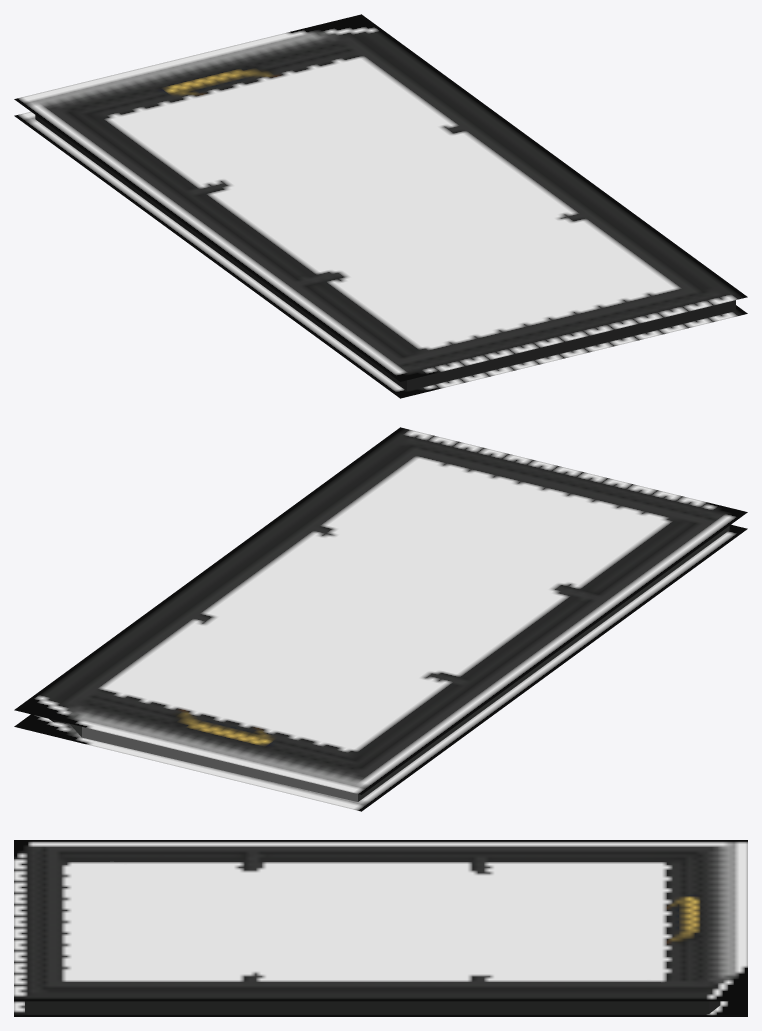
File: pz_native_fixtures_windows_metal_105_frame.obj
3 views of the same model, one above another, from view 1: azimuth 30°, elevation 25°; view 2: azimuth 150°, elevation 25°; view 3: azimuth 270°, elevation 25° (orthographic). The views are drawn at different scales.
Visible parts, largest first — view 1: pz_native_fixtures_windows_metal_105_frame; view 2: pz_native_fixtures_windows_metal_105_frame; view 3: pz_native_fixtures_windows_metal_105_frame.
Part boxes in pixels (box(x1,y1,x2,y2)): pz_native_fixtures_windows_metal_105_frame: box(14, 14, 747, 398); pz_native_fixtures_windows_metal_105_frame: box(14, 427, 747, 811); pz_native_fixtures_windows_metal_105_frame: box(14, 840, 747, 1016).
Size of the model in its own units: 0.875 by 0.04 by 1.68.
1 material, 1 textured.
